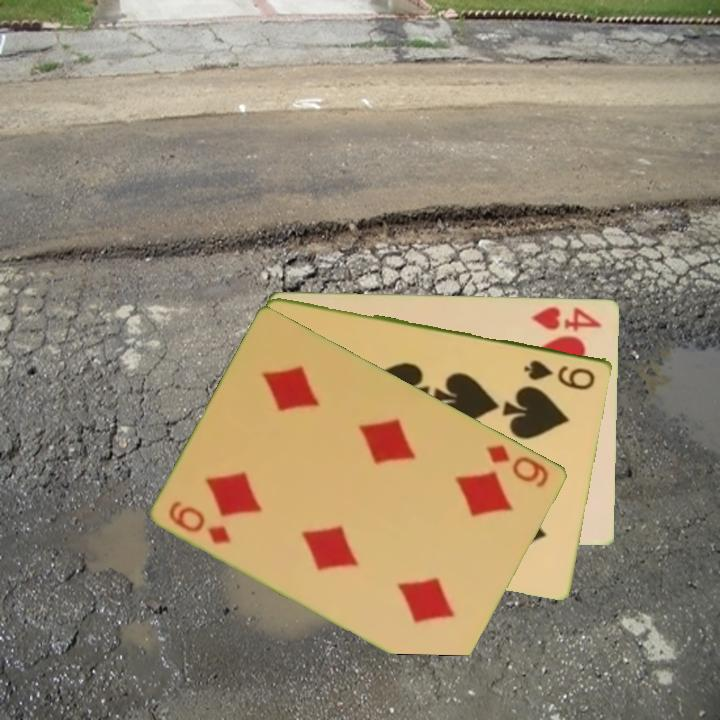4h: (529, 303, 605, 334)
6d: (165, 496, 235, 547), (483, 441, 552, 491)
9s: (520, 356, 598, 392)
